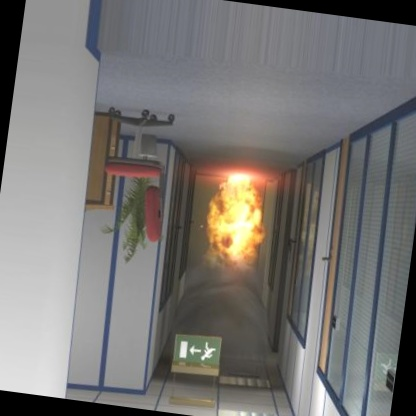fire: (188, 151, 291, 291)
